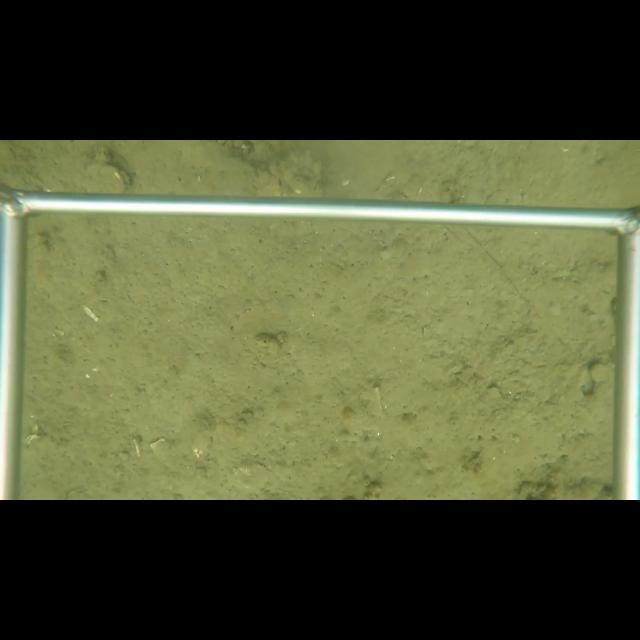Oyster-Closed: (75, 162, 135, 193)
